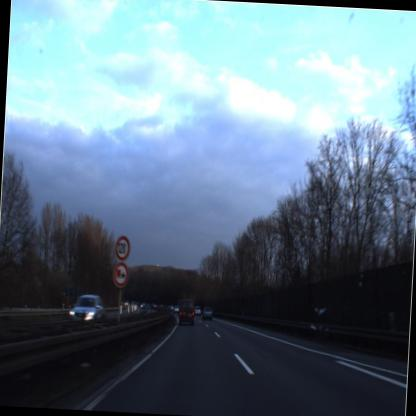prohibitory: (112, 231, 132, 263), (110, 264, 132, 290)
